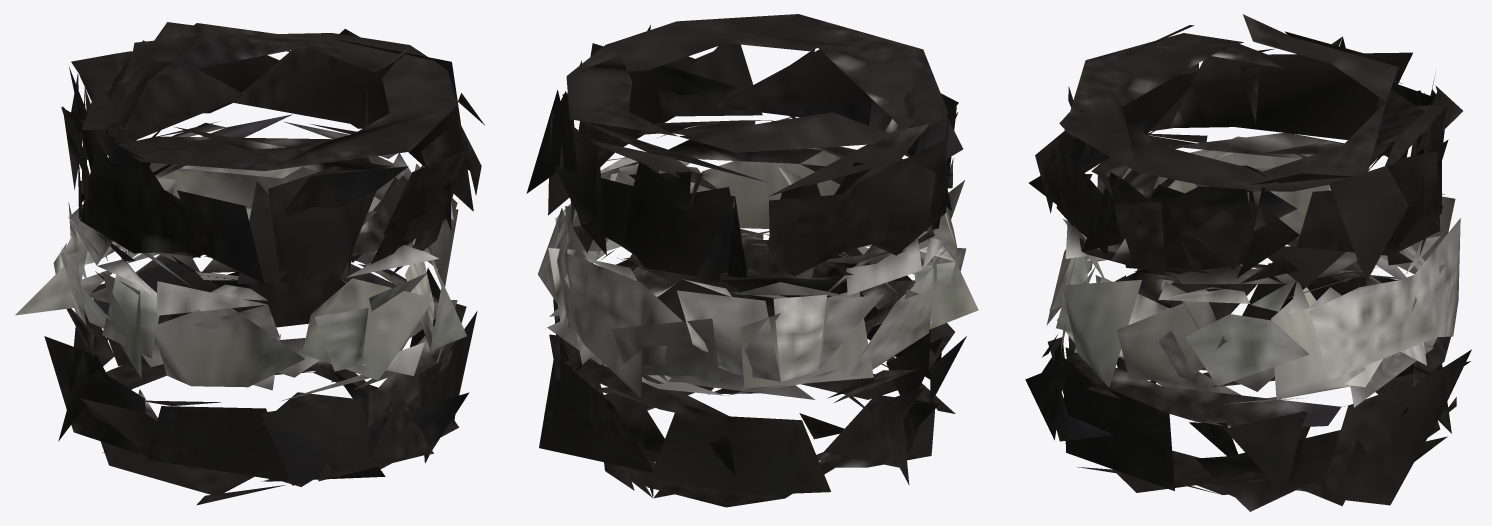
The model's file is kueste_reifenstapel_lo.glb.
The picture shows the model from 3 angles, left to right: view 1: azimuth 30°, elevation 25°; view 2: azimuth 150°, elevation 25°; view 3: azimuth 270°, elevation 25°; orthographic projection.
Parts seen in each view (by area): view 1: Prop; view 2: Prop; view 3: Prop.
Part boxes in pixels (left/top/right/bottom): Prop: left=15, top=22, right=484, bottom=505; Prop: left=526, top=14, right=978, bottom=507; Prop: left=1025, top=14, right=1471, bottom=511.
Size of the model in its own units: 1.3 by 1.06 by 1.19.
Materials: 1 (1 with a texture image).
